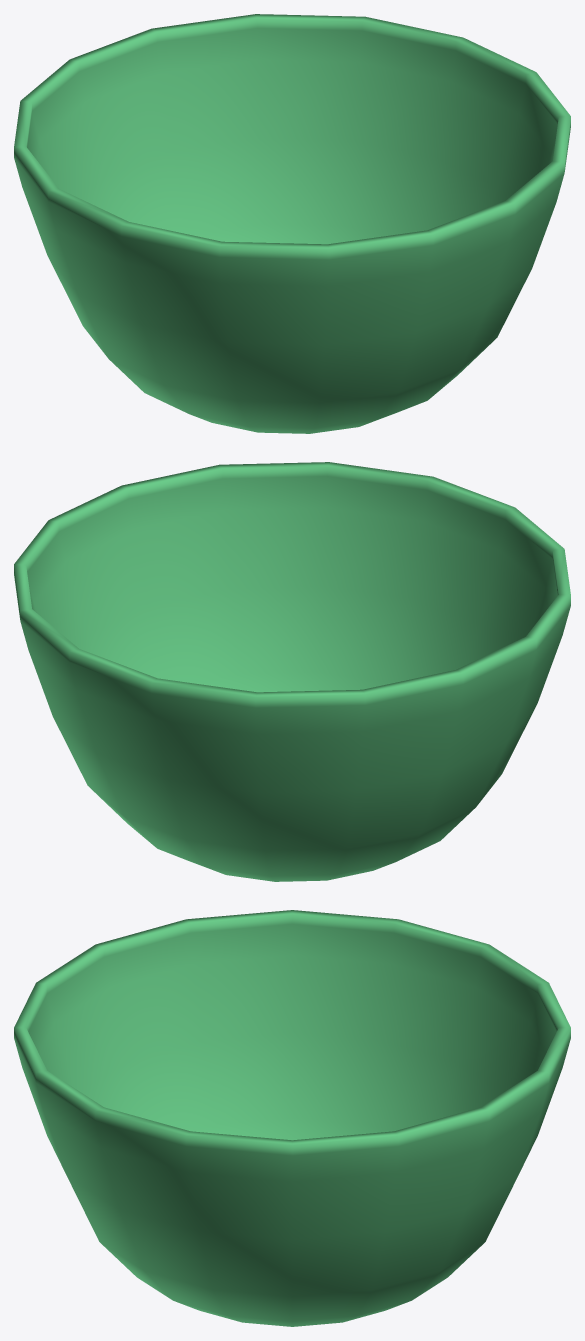
File: House_Bowl.FBX
3 views of the same model, one above another, from view 1: azimuth 30°, elevation 25°; view 2: azimuth 150°, elevation 25°; view 3: azimuth 270°, elevation 25° (orthographic).
Parts seen in each view (by area): view 1: House_Bowl; view 2: House_Bowl; view 3: House_Bowl.
Part boxes in pixels (x1,y1,x2,y2): House_Bowl: (14, 14, 570, 433); House_Bowl: (14, 462, 570, 881); House_Bowl: (14, 910, 570, 1326).
Bounding box in the file's own units: 13.48 × 6.88 × 13.48.
